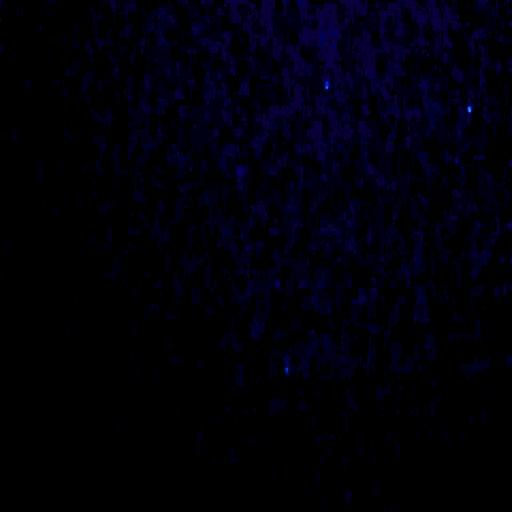object-detection-project: (284, 356, 291, 375), (325, 81, 330, 90), (467, 106, 472, 112)
